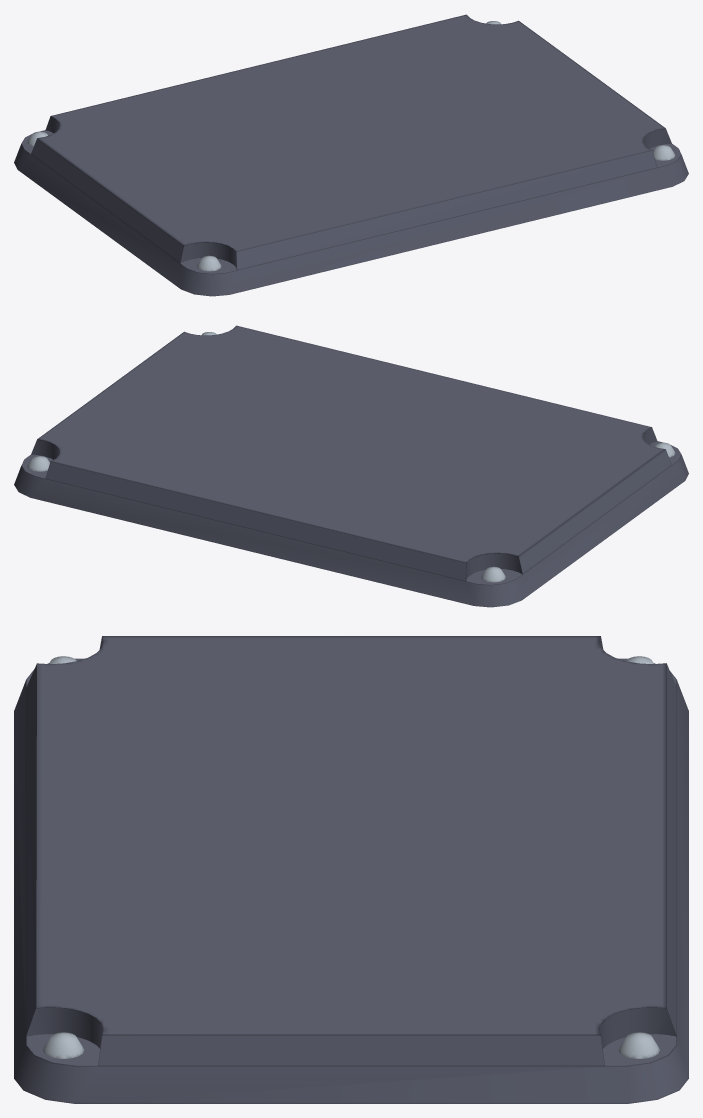
The model's file is Panel_Rectangular_01.FBX.
3 renders of one model, top to bottom at view 1: azimuth 30°, elevation 25°; view 2: azimuth 150°, elevation 25°; view 3: azimuth 270°, elevation 25°, orthographic. The views are drawn at different scales.
Parts seen in each view (by area): view 1: Panel_Rectangular_01; view 2: Panel_Rectangular_01; view 3: Panel_Rectangular_01.
Part boxes in pixels (bbox=[...]): Panel_Rectangular_01: bbox=[14, 14, 688, 296]; Panel_Rectangular_01: bbox=[14, 325, 688, 607]; Panel_Rectangular_01: bbox=[14, 636, 688, 1103].
Bounding box in the file's own units: 1.56 × 0.1029 × 1.06.
1 material, 1 textured.
